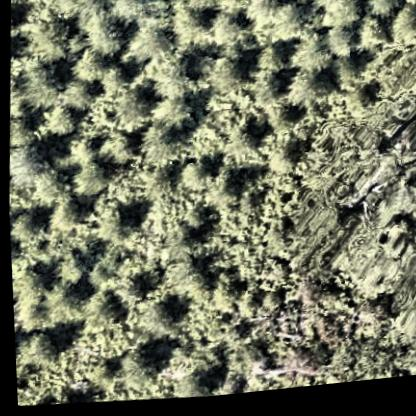tree-top: (323, 221, 413, 313), (24, 11, 73, 65), (20, 58, 68, 110), (75, 287, 123, 336), (107, 84, 152, 132), (137, 122, 178, 173), (198, 56, 245, 100), (145, 58, 189, 105), (14, 325, 58, 371), (126, 17, 169, 64), (9, 259, 48, 310), (286, 36, 330, 80), (135, 162, 179, 206), (112, 341, 155, 386), (157, 256, 200, 301), (67, 158, 111, 201), (281, 71, 326, 112), (87, 13, 124, 62), (168, 365, 215, 403), (87, 202, 129, 244), (151, 94, 193, 135), (68, 43, 108, 84), (44, 282, 81, 326), (97, 128, 136, 169), (137, 301, 174, 342), (204, 276, 239, 319), (41, 102, 79, 141), (208, 13, 245, 53), (173, 160, 210, 198), (352, 17, 387, 57), (46, 194, 79, 235), (251, 45, 288, 80), (50, 251, 85, 288), (60, 75, 95, 111), (176, 201, 211, 236), (320, 30, 353, 67), (6, 142, 37, 181), (9, 206, 42, 242), (105, 0, 148, 27), (63, 135, 97, 169), (389, 8, 416, 50), (242, 0, 281, 29), (210, 165, 242, 200), (229, 120, 261, 153), (330, 63, 361, 97), (365, 0, 400, 26), (57, 0, 100, 21), (7, 110, 31, 147), (311, 0, 354, 20), (208, 0, 249, 20), (176, 0, 217, 18), (386, 0, 416, 1)
